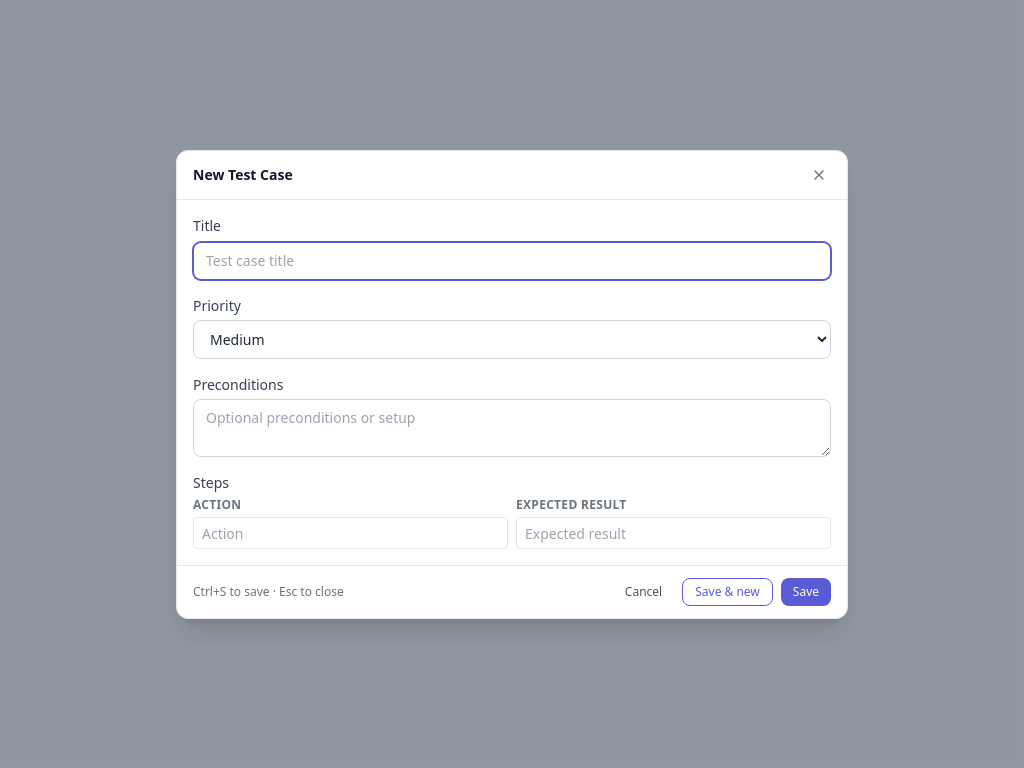
CasePanel — save feedback › successful save closes the modal and confirms with a toast
Type "My case" into the field labelled "Title" at [512, 260], box [193, 242, 831, 280]
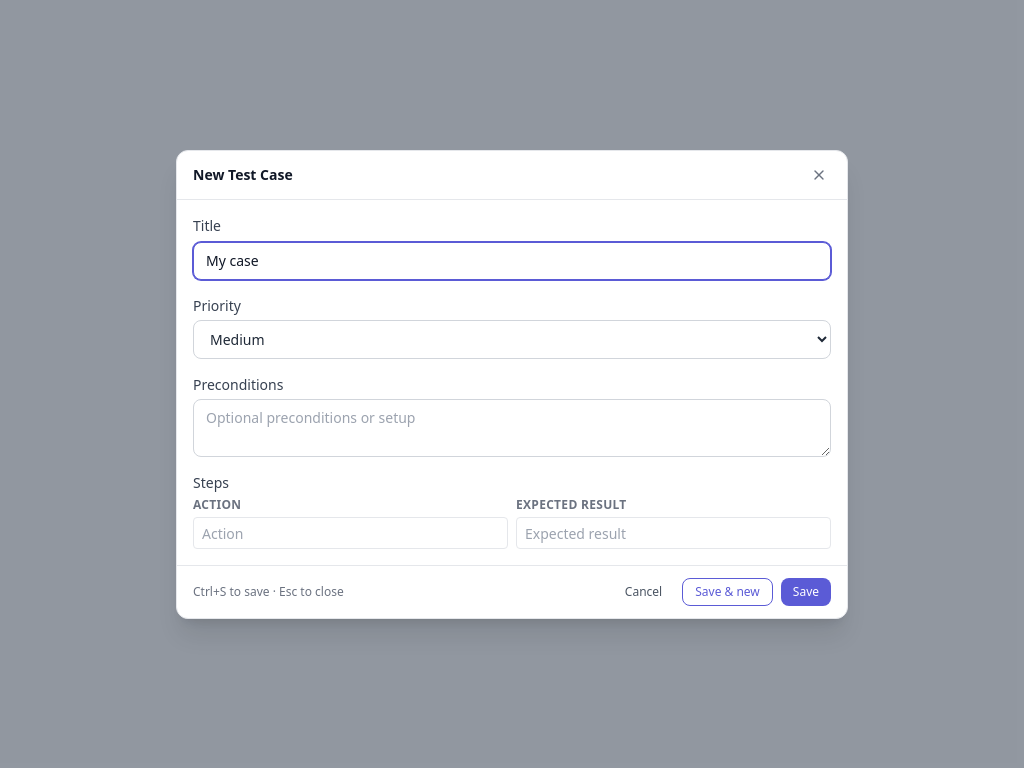
Click the button "Save" at [806, 592], box [781, 578, 831, 606]
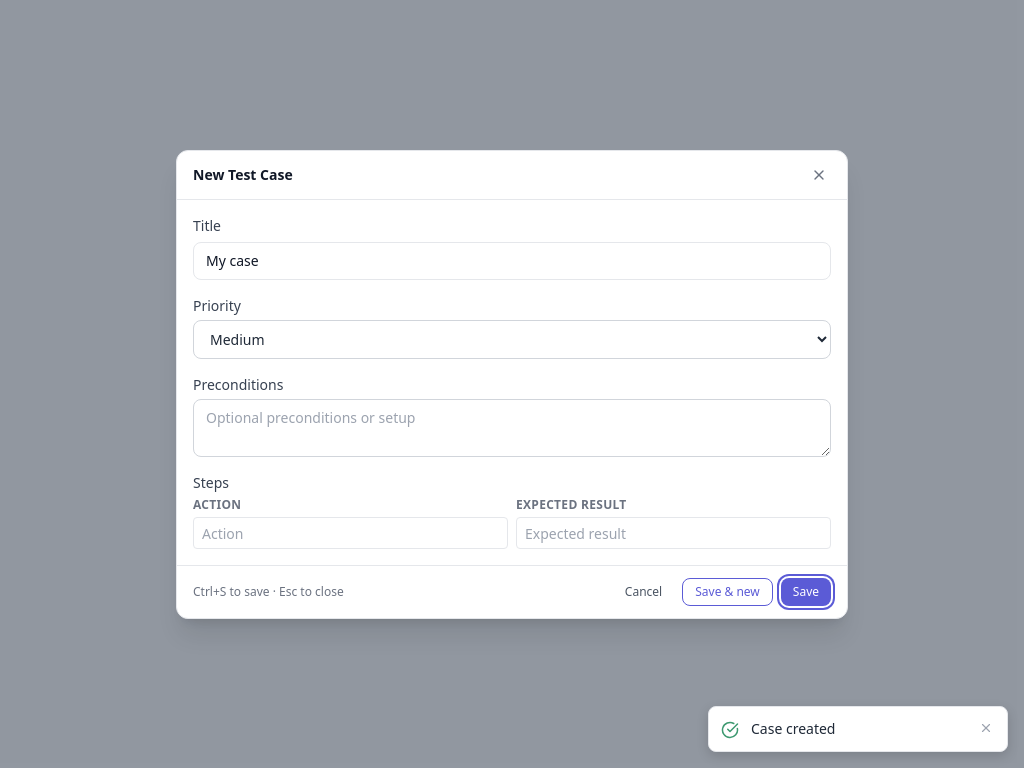
Now the text "Case created" is shown, box [751, 719, 836, 738]
